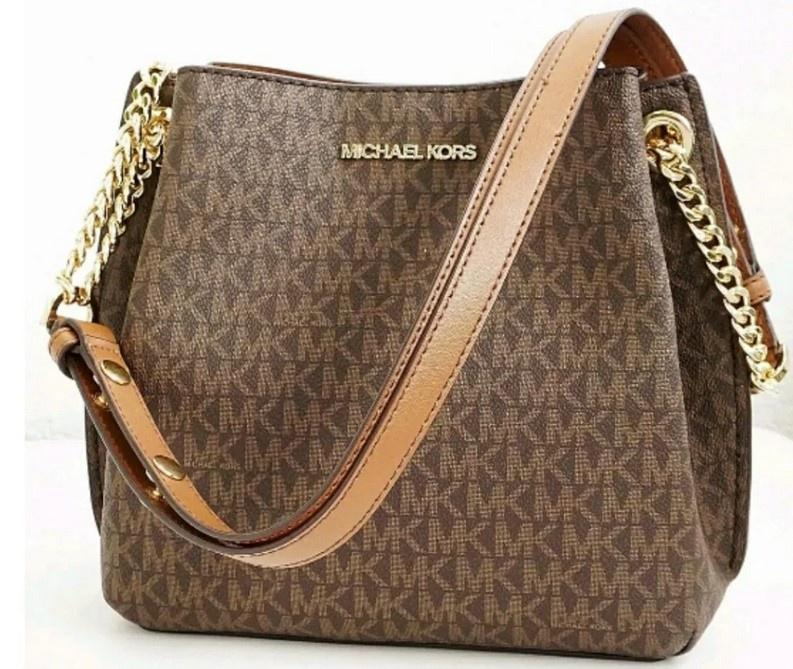MICHAEL-KORS: (341, 143, 477, 159)
